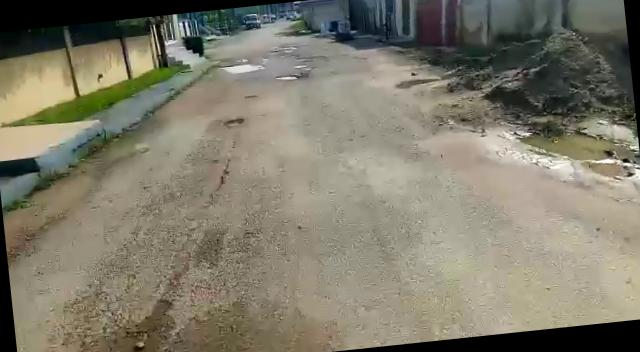pothole: (218, 60, 266, 76), (222, 117, 246, 129), (278, 72, 306, 81)
